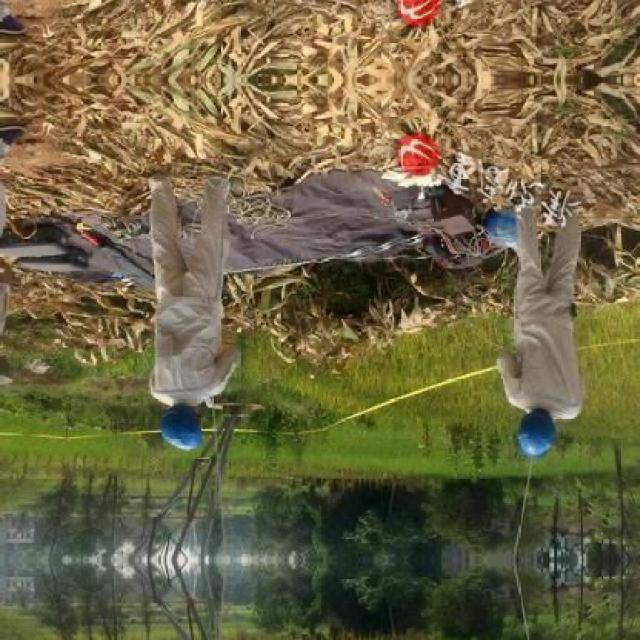con casco: (478, 369, 599, 472), (139, 380, 209, 470)
